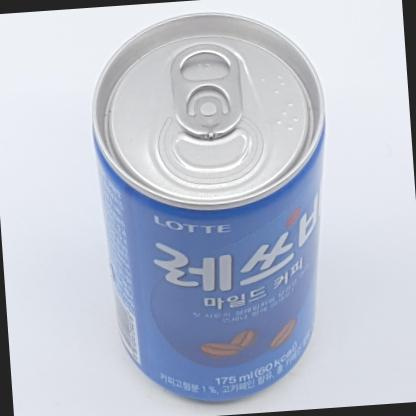alumunium_can: (79, 10, 352, 413)
